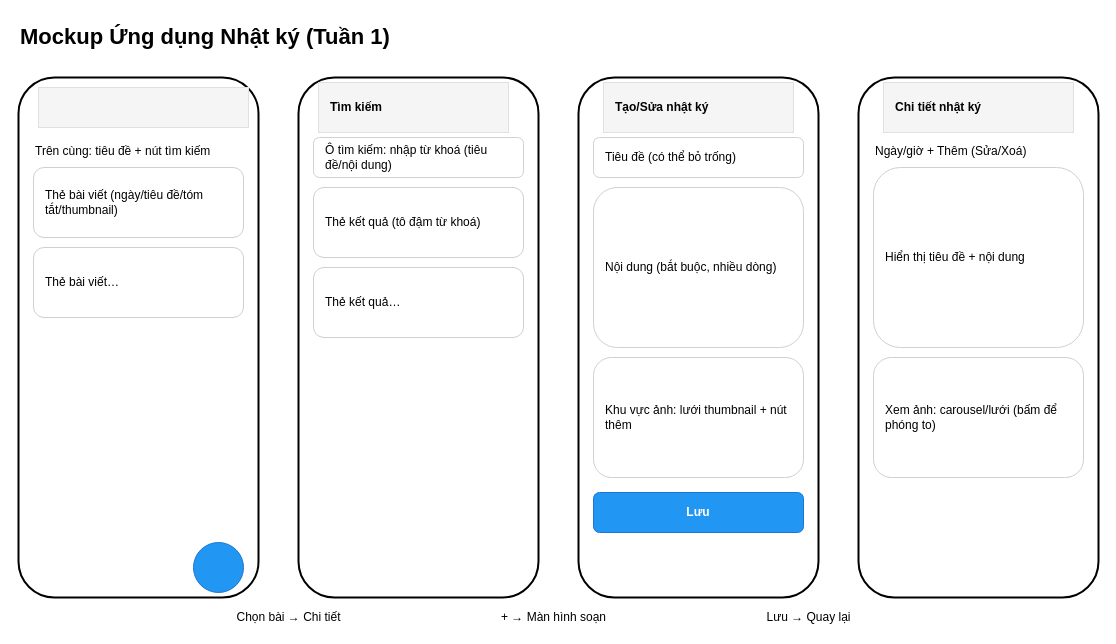
Image size: 1116x644. Some labels were removed from this diagram. The box of each missing label's shape, as (x1, y1, x2, y2) in pixels:
+ Tạo mới: (192, 542, 244, 592)
Trang chủ | Danh sách nhật ký: (38, 86, 248, 128)
